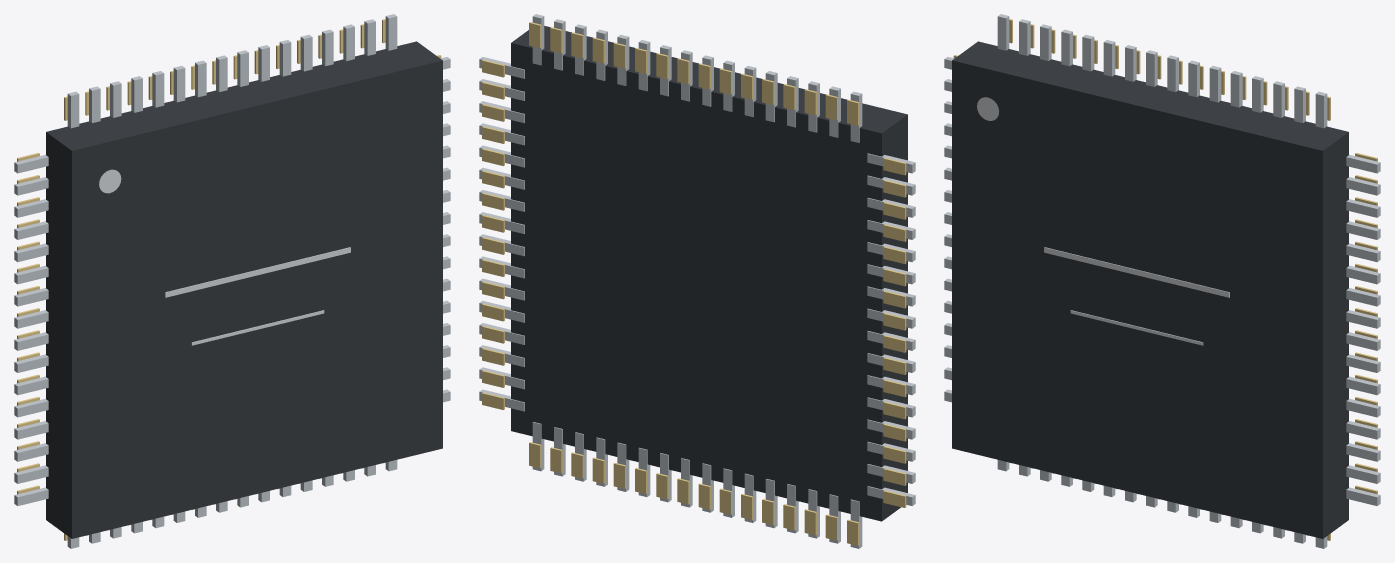
3 views of the same model, side by side, from view 1: azimuth 30°, elevation 25°; view 2: azimuth 150°, elevation 25°; view 3: azimuth 330°, elevation 25° (orthographic).
Visible parts, largest first — view 1: U1_LQFP64_MoldedBody, U1_LaserEtchedIdentity, U1_FineLine_48MHz; view 2: U1_LQFP64_MoldedBody; view 3: U1_LQFP64_MoldedBody, U1_LaserEtchedIdentity, U1_FineLine_48MHz.
Boxes of the visible parts, x1=… form: U1_LQFP64_MoldedBody: x1=46, y1=41, x2=442, y2=538; U1_LaserEtchedIdentity: x1=165, y1=247, x2=350, y2=297; U1_FineLine_48MHz: x1=191, y1=310, x2=324, y2=345; U1_LQFP64_MoldedBody: x1=511, y1=26, x2=907, y2=521; U1_LQFP64_MoldedBody: x1=952, y1=41, x2=1348, y2=538; U1_LaserEtchedIdentity: x1=1044, y1=247, x2=1229, y2=297; U1_FineLine_48MHz: x1=1070, y1=310, x2=1203, y2=345.
Bounding box in the file's own units: 0.0163 × 0.0163 × 0.00196.
